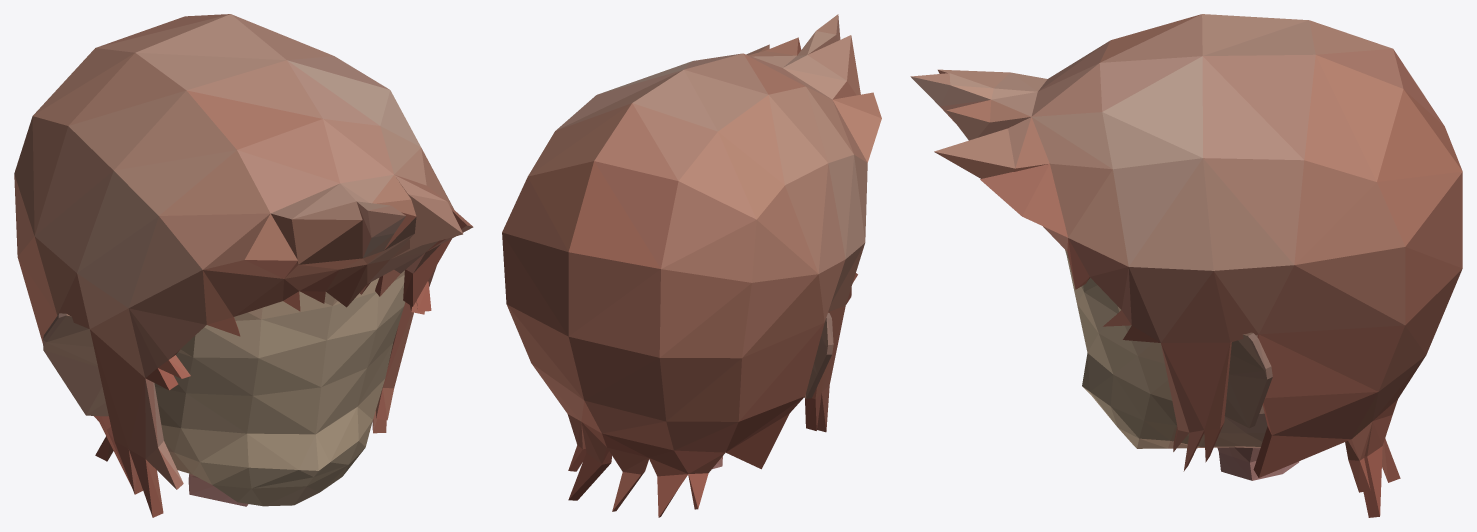
Rendered from helm_lightskin_standard_blonde.fbx.
The picture shows the model from 3 angles, left to right: view 1: azimuth 30°, elevation 25°; view 2: azimuth 150°, elevation 25°; view 3: azimuth 270°, elevation 25°; orthographic projection. The views are drawn at different scales.
Parts seen in each view (by area): view 1: helm_lightskin_standard_blonde; view 2: helm_lightskin_standard_blonde; view 3: helm_lightskin_standard_blonde.
Part boxes in pixels (x1,y1,x2,y2): helm_lightskin_standard_blonde: [14, 14, 473, 517]; helm_lightskin_standard_blonde: [502, 14, 881, 517]; helm_lightskin_standard_blonde: [910, 14, 1462, 517].
Size of the model in its own units: 1.13 by 1.38 by 1.55.
